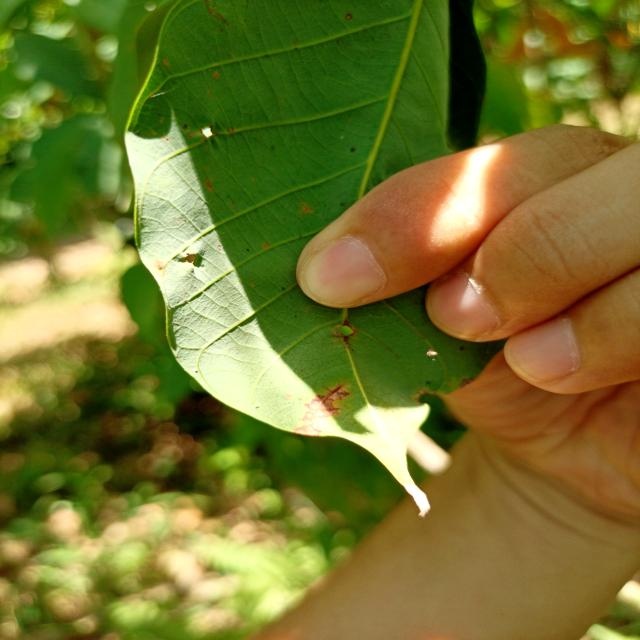Corynespora: (293, 382, 350, 437)
